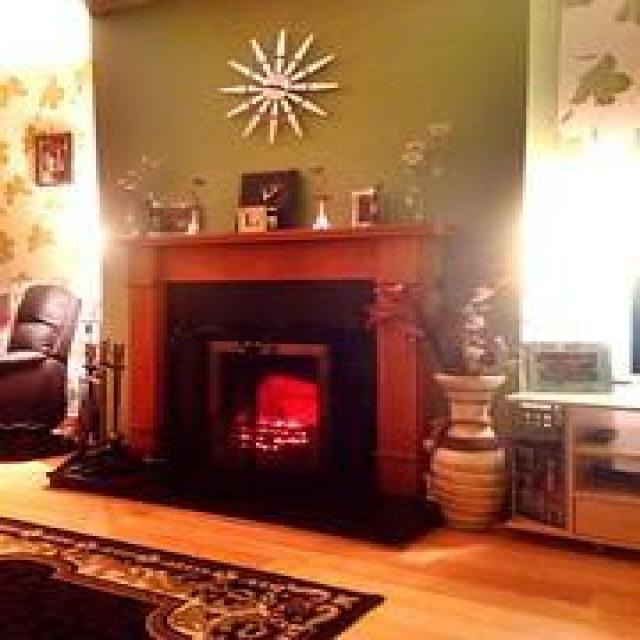fire: (196, 358, 334, 460)
other: (491, 139, 633, 344)
